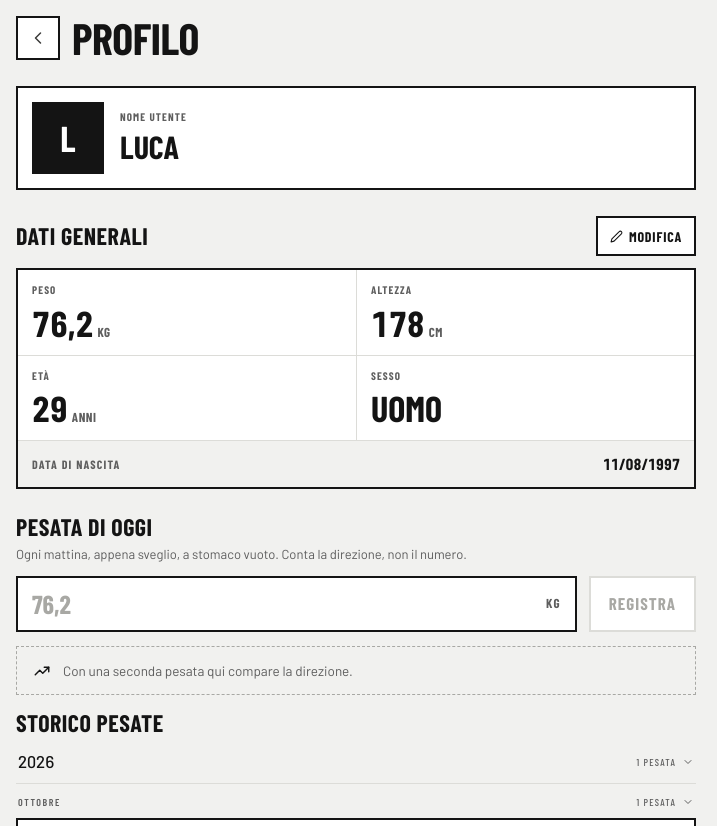
Test: il profilo › «Registra» sta accanto al campo, si accende solo con un peso, e registra la pesata
This screenshot has width=717, height=826.
Expected: the button "Registra" is disabled, top-left (589, 576), bottom-right (696, 632)
Expected: the text "Con una seconda pesata qui compare la direzione." is shown, top-left (16, 646), bottom-right (696, 695)
Type "75.8" into the field named "Peso di oggi in kg".
click(285, 604); type("75.8")  # box top-left (32, 590), bottom-right (538, 618)
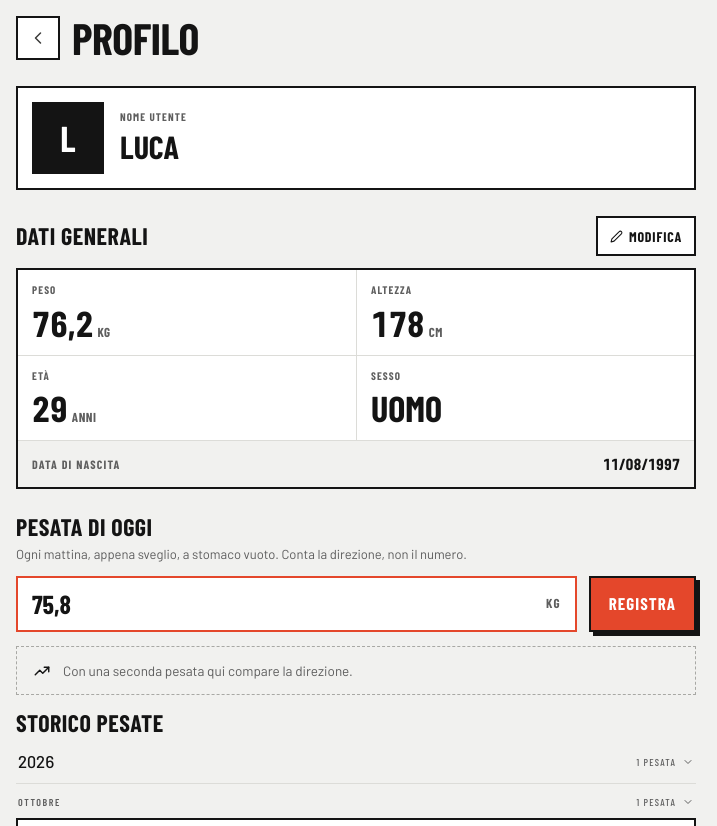
Expected: the button "Registra" is enabled
Click the button "Registra".
click(642, 604)  # box top-left (589, 576), bottom-right (696, 632)
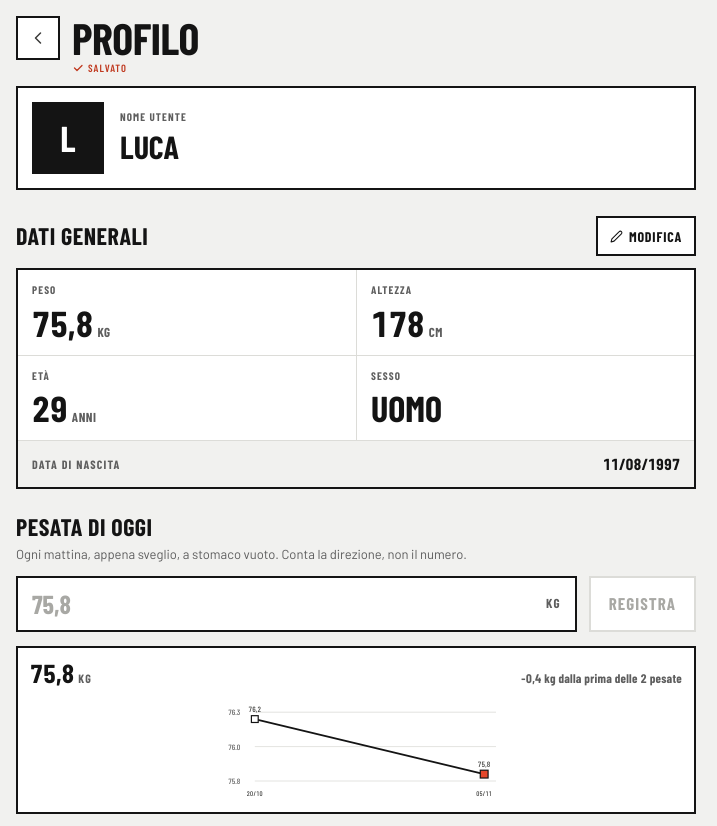
Expected: the text "Con una seconda pesata qui compare la direzione." is gone
